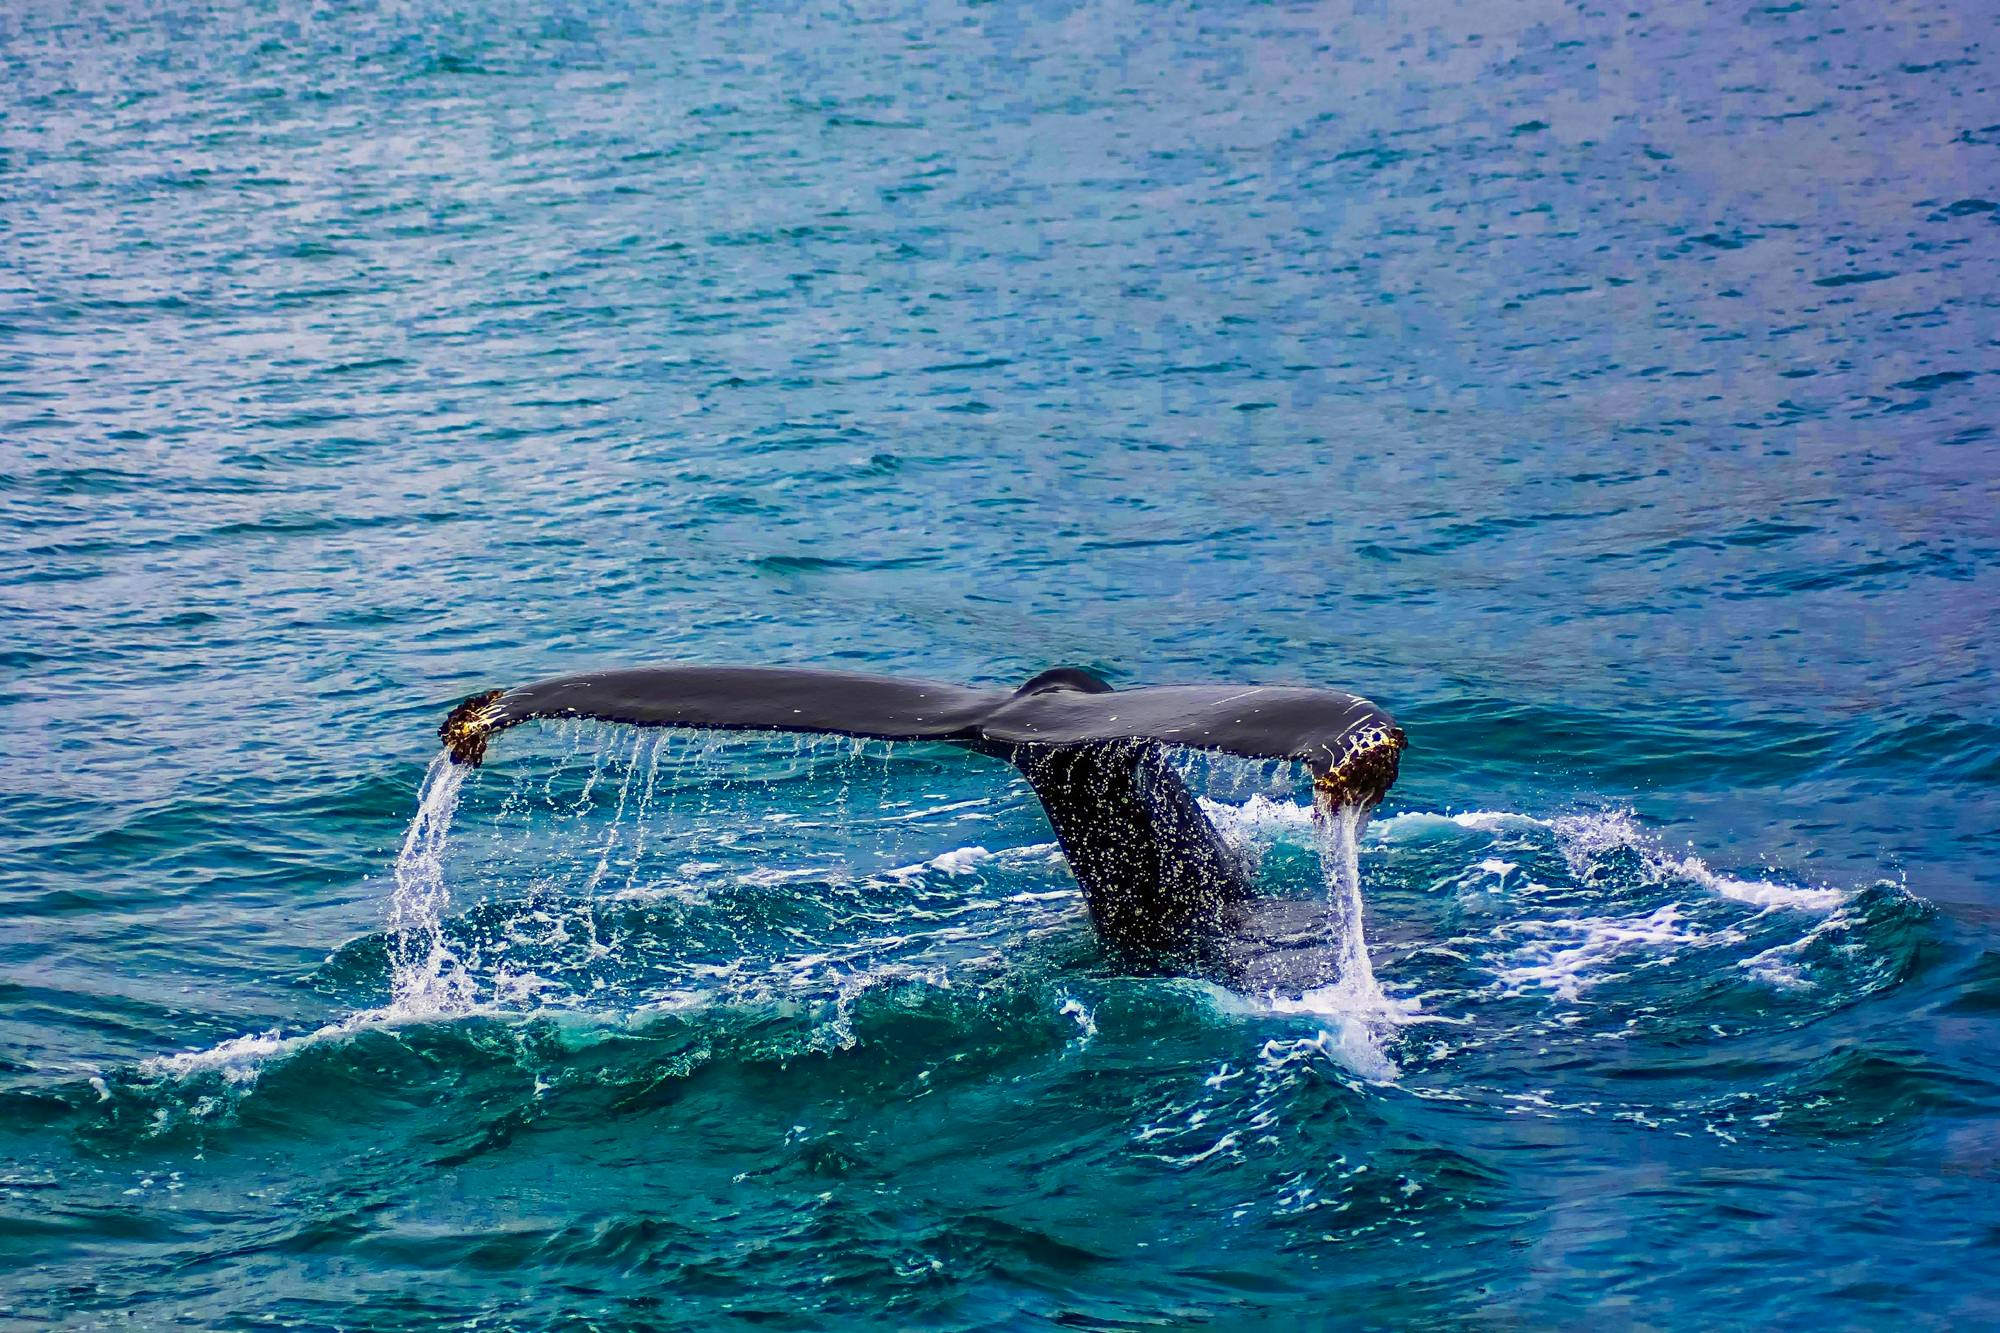whale: (437, 662, 1410, 1000)
